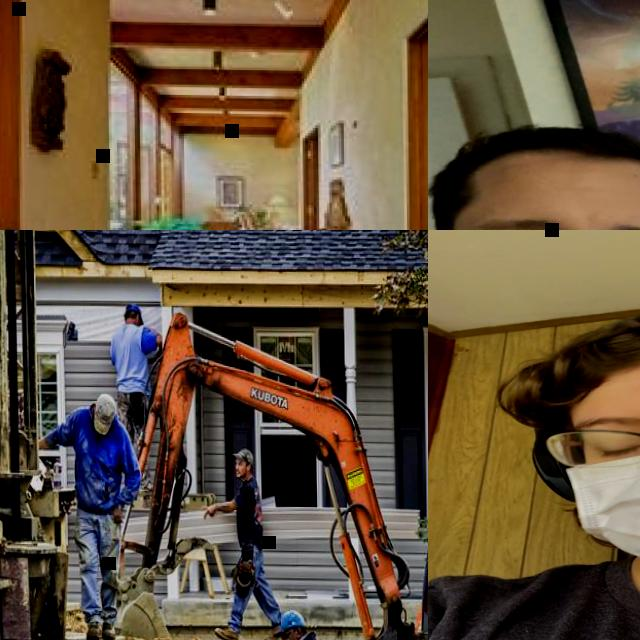Hardhat: (538, 301, 640, 394)
Mask: (556, 440, 640, 569)
NO-Hardhat: (428, 126, 640, 193), (93, 393, 118, 432), (272, 606, 306, 628), (232, 447, 254, 462), (126, 300, 142, 314)
NO-Mask: (235, 467, 247, 477)
NO-Safety Vest: (428, 556, 640, 640), (73, 408, 118, 508), (116, 322, 145, 390), (237, 481, 262, 541)
Person: (428, 297, 640, 640), (36, 391, 142, 636), (428, 122, 640, 230), (199, 445, 282, 640), (109, 300, 163, 487), (236, 606, 341, 640)
vehicle: (113, 308, 428, 640)
